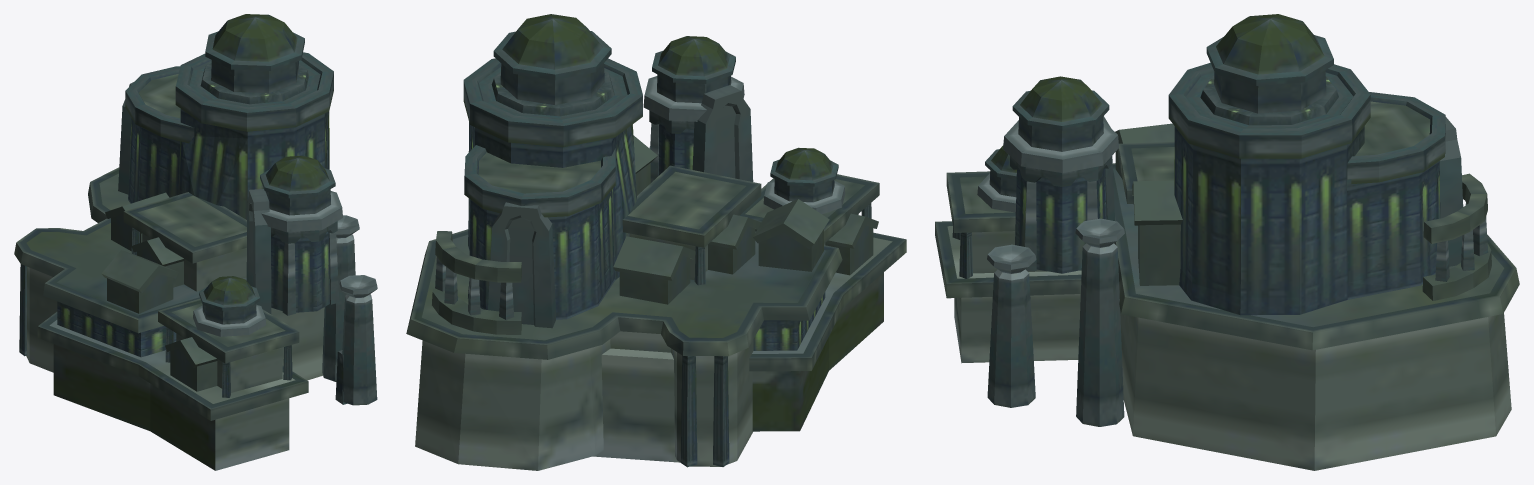
File: cs_xinzhucheng_waicechengqiang_002.FBX
3 views of the same model, side by side, from view 1: azimuth 30°, elevation 25°; view 2: azimuth 150°, elevation 25°; view 3: azimuth 270°, elevation 25° (orthographic). The views are drawn at different scales.
Visible parts, largest first — view 1: cs_xinzhucheng_waicechengqiang_002; view 2: cs_xinzhucheng_waicechengqiang_002; view 3: cs_xinzhucheng_waicechengqiang_002.
Part boxes in pixels (<box>): cs_xinzhucheng_waicechengqiang_002: <box>14,14,377,470</box>; cs_xinzhucheng_waicechengqiang_002: <box>406,14,906,470</box>; cs_xinzhucheng_waicechengqiang_002: <box>935,14,1519,470</box>.
Size of the model in its own units: 39.15 by 38.26 by 49.84.
